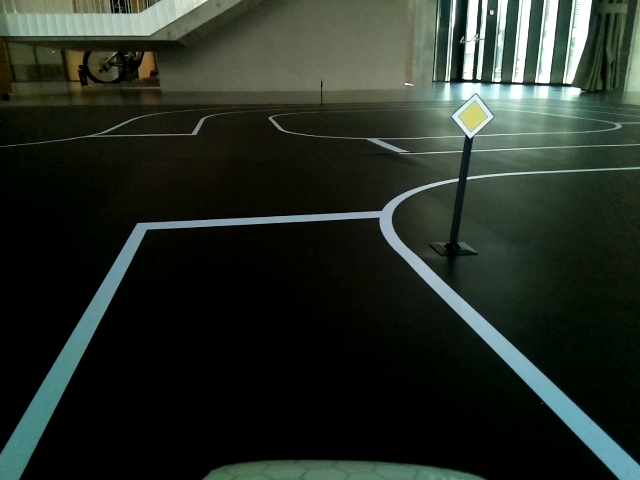priority: (448, 92, 496, 142)
